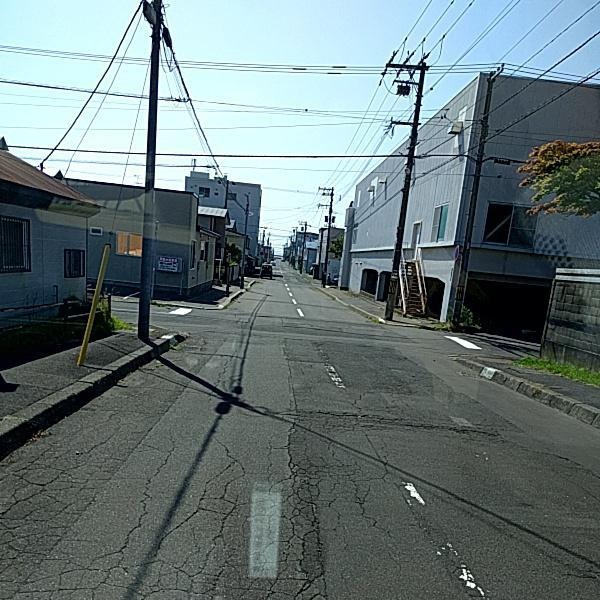D20: (0, 354, 502, 594)
D44: (385, 473, 493, 594)
